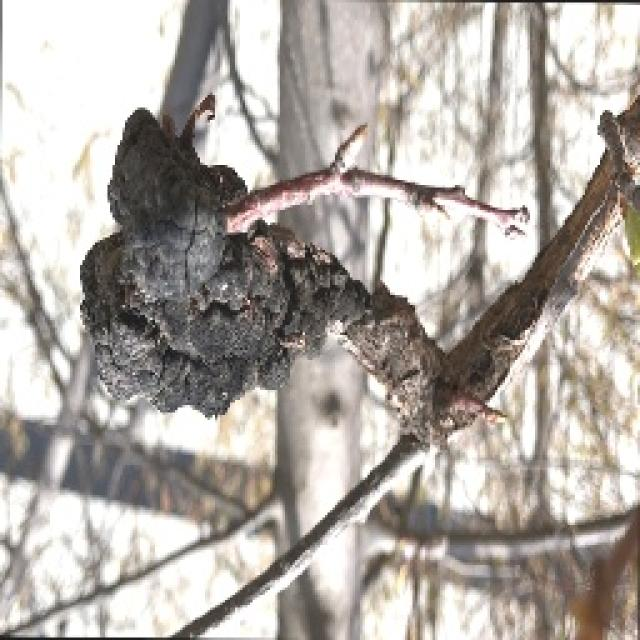Black_knot: (75, 100, 370, 420)
